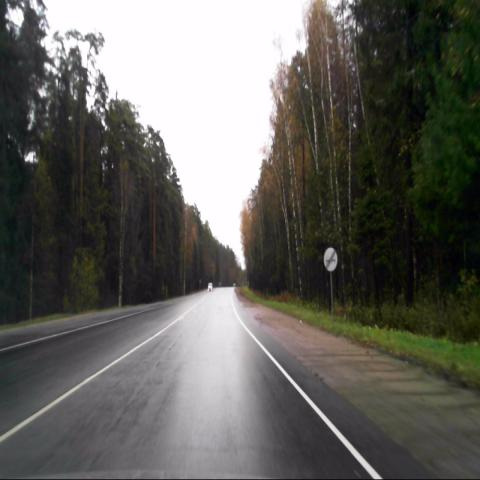3_21: (323, 246, 337, 271)
